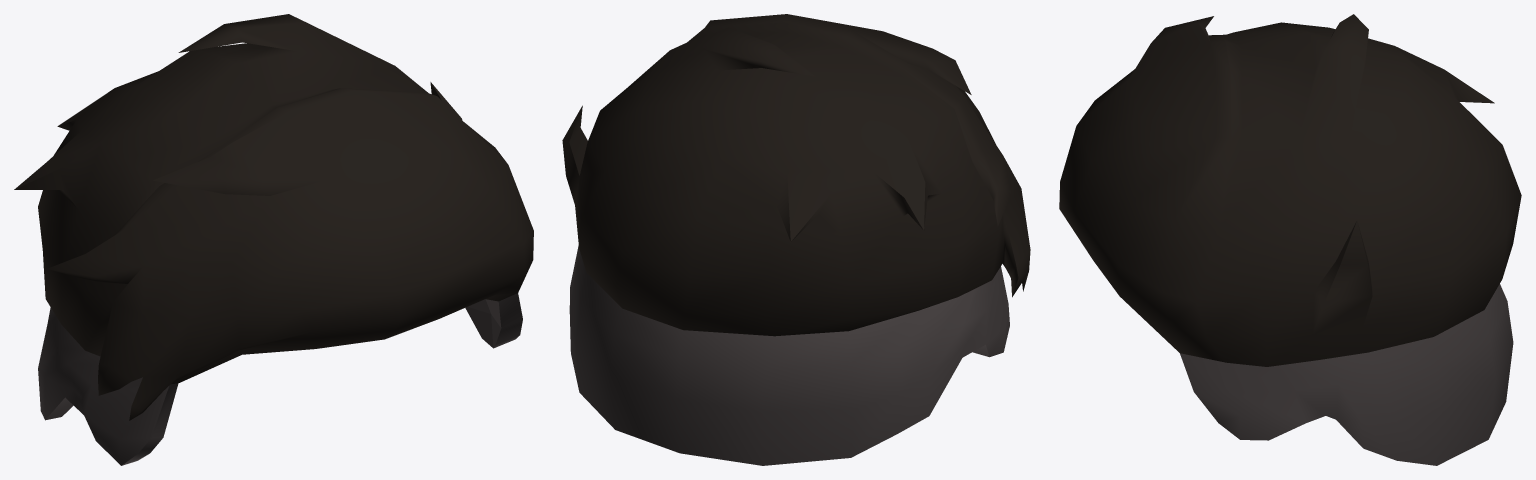
File: Hair_12_01.fbx
3 renders of one model, left to right at view 1: azimuth 30°, elevation 25°; view 2: azimuth 150°, elevation 25°; view 3: azimuth 270°, elevation 25°, orthographic. The views are drawn at different scales.
Visible parts, largest first — view 1: Hair_12_01; view 2: Hair_12_01; view 3: Hair_12_01.
Part boxes in pixels (x1,y1,x2,y2): Hair_12_01: (14, 14, 533, 465); Hair_12_01: (562, 14, 1030, 465); Hair_12_01: (1059, 14, 1521, 465).
Bounding box in the file's own units: 40.83 × 34.03 × 38.32.
